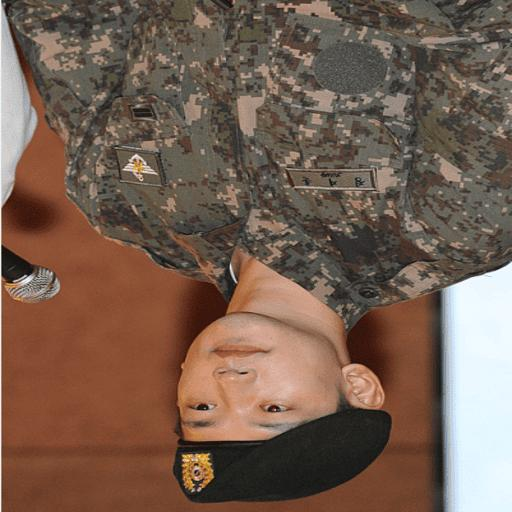korea army: (20, 2, 500, 511)
